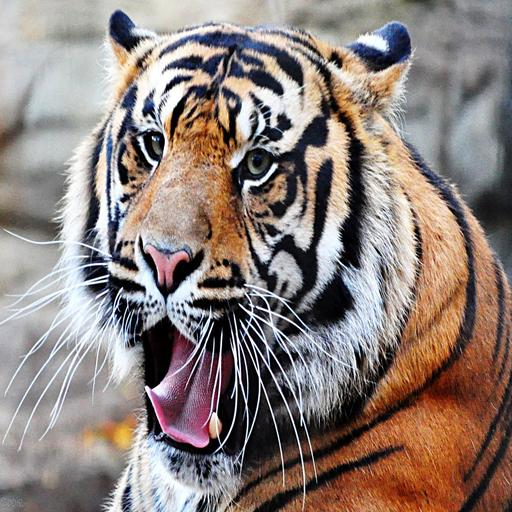Tiger: (0, 7, 512, 512)
